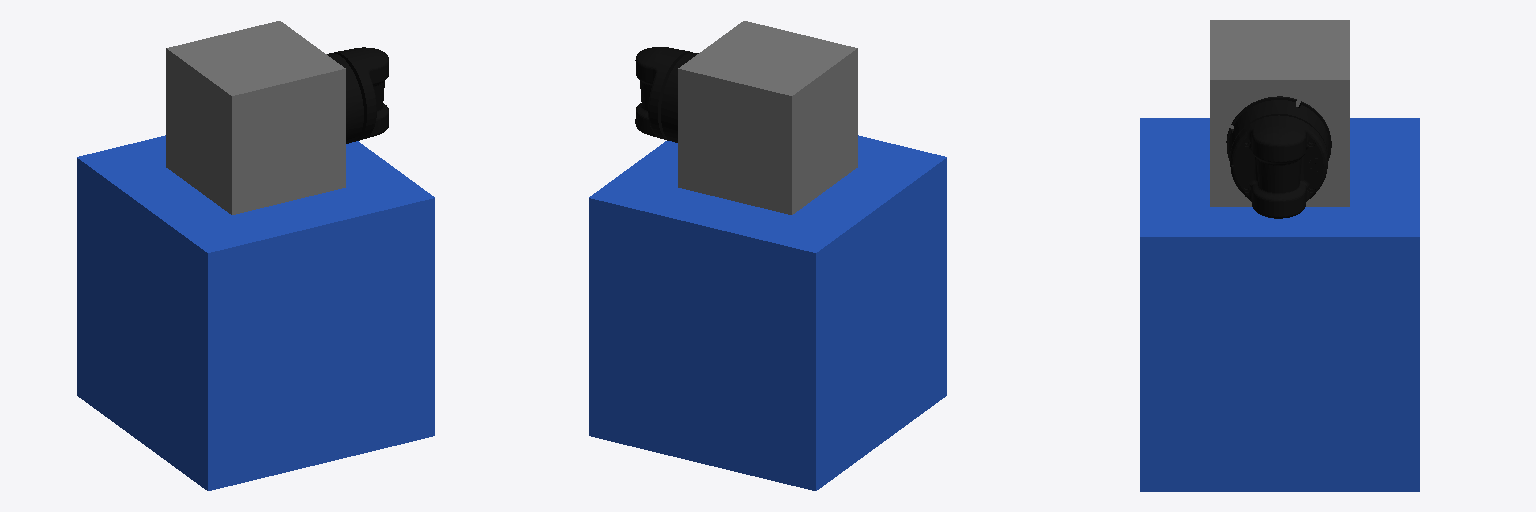
The robot description file, URDF, robot "l2_forward_mount_example":
<?xml version="1.0"?>
<!--
  Minimal example URDF: Unitree L2 mounted on the FRONT face of a trivial
  "robot", facing forward with cable pointing down. Use with
  l2_forward_mount_example.launch.py.

  Robot geometry (identical to l2_top_mount.urdf — only the L2 joint differs):
    base_link: 200 mm cube on the ground.
    top_block: 100 mm cube on top of the base.

  L2 mount:
    l2lidar_link at the center of the top_block's front face (+X side).
    Rotation rpy = (π, -π/2, 0) reorients the L2 so:
      L2 +Z (cloud out of mount surface)  → world +X (forward)
      L2 +X (opposite cable exit)         → world +Z (up — cable points DOWN)
      L2 +Y                               → world -Y
    The L2 mesh visibly hangs off the front face with cable side down.

  This is the typical mobile-robot mounting orientation (forward scanning,
  cable routed downward into the body).
-->
<robot name="l2_forward_mount_example">

  <!-- 200mm base cube, sitting on the ground -->
  <link name="base_link">
    <visual>
      <origin xyz="0 0 0.1" rpy="0 0 0"/>
      <geometry>
        <box size="0.2 0.2 0.2"/>
      </geometry>
      <material name="base_blue">
        <color rgba="0.20 0.40 0.80 1.0"/>
      </material>
    </visual>
    <collision>
      <origin xyz="0 0 0.1" rpy="0 0 0"/>
      <geometry>
        <box size="0.2 0.2 0.2"/>
      </geometry>
    </collision>
  </link>

  <!-- 100mm top cube, sitting flush on the base cube -->
  <link name="top_block">
    <visual>
      <origin xyz="0 0 0.05" rpy="0 0 0"/>
      <geometry>
        <box size="0.1 0.1 0.1"/>
      </geometry>
      <material name="top_gray">
        <color rgba="0.50 0.50 0.50 1.0"/>
      </material>
    </visual>
    <collision>
      <origin xyz="0 0 0.05" rpy="0 0 0"/>
      <geometry>
        <box size="0.1 0.1 0.1"/>
      </geometry>
    </collision>
  </link>

  <joint name="base_to_top" type="fixed">
    <parent link="base_link"/>
    <child  link="top_block"/>
    <!-- top of the 200mm base cube -->
    <origin xyz="0 0 0.2" rpy="0 0 0"/>
  </joint>

  <!-- L2 device link. Mesh origin = device's bottom mounting surface center,
       which is the cloud frame origin (Unitree spec). -->
  <link name="l2lidar_link">
    <visual>
      <origin xyz="0 0 0" rpy="0 0 0"/>
      <geometry>
        <mesh filename="package://l2lidar_node/meshes/l2_lidar.stl"/>
      </geometry>
      <material name="l2_dark">
        <color rgba="0.10 0.10 0.10 1.0"/>
      </material>
    </visual>
  </link>

  <!-- L2 mounted on the front face of top_block (+X side), cable-down
       forward-looking convention.
       xyz=(0.05, 0, 0.05): top_block extends from x=-0.05..+0.05; its front
         face center is at (0.05, 0, 0.05) in top_block frame.
       rpy=(π, -π/2, 0) ≈ (3.14159, -1.5708, 0): see file header for axis
         mapping. Numeric values used because plain URDF doesn't expand ${pi}. -->
  <joint name="top_to_l2" type="fixed">
    <parent link="top_block"/>
    <child  link="l2lidar_link"/>
    <origin xyz="0.05 0 0.05" rpy="3.14159 -1.5708 0"/>
  </joint>

</robot>

--- What the picture shows (computed from the rendered views, not written in the file) ---
Views: 3 orthographic renders of the robot side by side, from view 1: azimuth 30°, elevation 25°; view 2: azimuth 150°, elevation 25°; view 3: azimuth 270°, elevation 25°.
Robot: l2_forward_mount_example — 3 links, 2 joints (2 fixed); root link base_link; default pose: every joint at zero.
Visible links, largest first — view 1: base_link, top_block, l2lidar_link; view 2: base_link, top_block, l2lidar_link; view 3: base_link, top_block, l2lidar_link.
Boxes of the visible links, bbox=[...] form: base_link: bbox=[77, 135, 434, 490]; top_block: bbox=[166, 21, 345, 214]; l2lidar_link: bbox=[327, 47, 388, 143]; base_link: bbox=[589, 135, 946, 490]; top_block: bbox=[678, 21, 857, 214]; l2lidar_link: bbox=[635, 47, 698, 142]; base_link: bbox=[1140, 118, 1419, 491]; top_block: bbox=[1210, 20, 1349, 206]; l2lidar_link: bbox=[1226, 96, 1331, 218].
Size in the robot's own frame: 0.2139 by 0.2 by 0.3 metres.
1 mesh visuals loaded from 1 distinct referenced files (1 binary STL).
